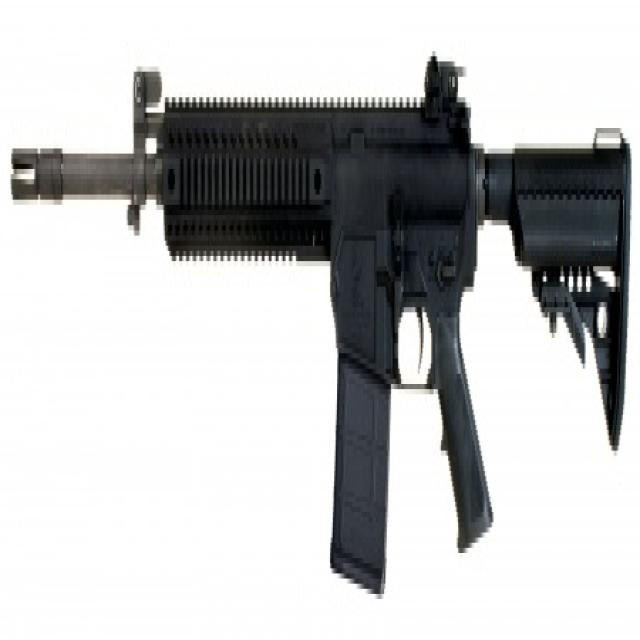rifle: (7, 38, 638, 598)
